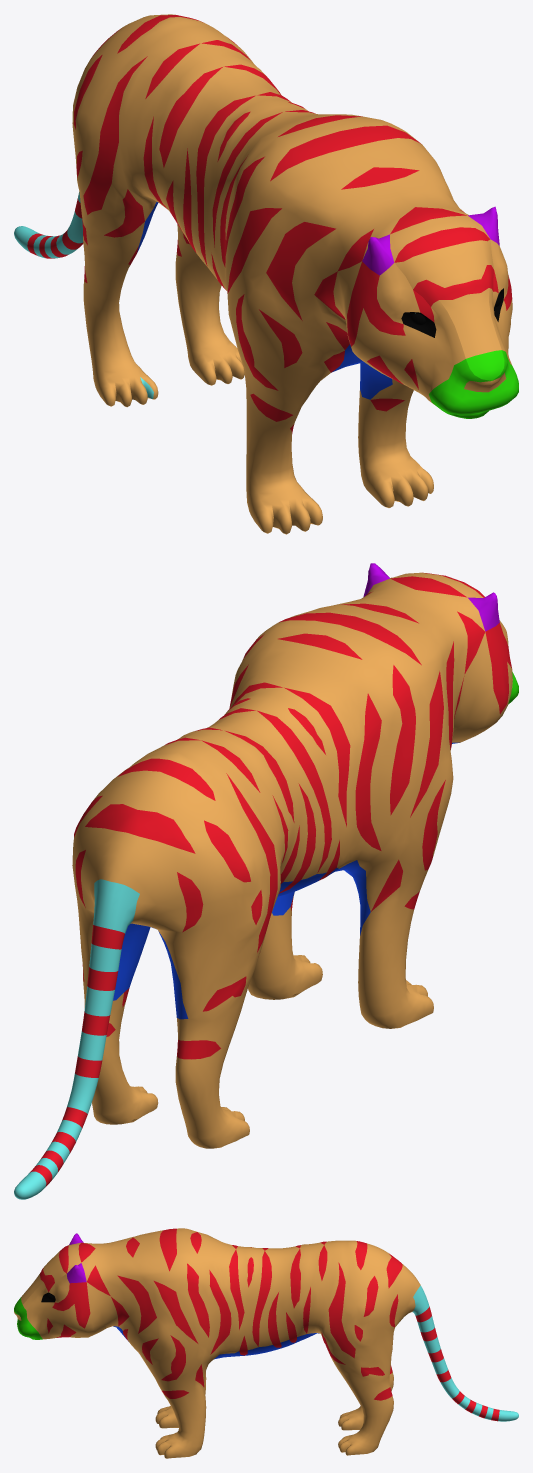
File: tiger.fbx
The picture shows the model from 3 angles, top to bottom: view 1: azimuth 30°, elevation 25°; view 2: azimuth 150°, elevation 25°; view 3: azimuth 270°, elevation 25°; orthographic projection. The views are drawn at different scales.
Visible parts, largest first — view 1: tiger_001; view 2: tiger_001; view 3: tiger_001.
Boxes of the visible parts, <box> form: tiger_001: <box>14,14,518,534</box>; tiger_001: <box>14,563,518,1199</box>; tiger_001: <box>14,1228,518,1458</box>.
Bounding box in the file's own units: 71.69 × 127 × 290.
